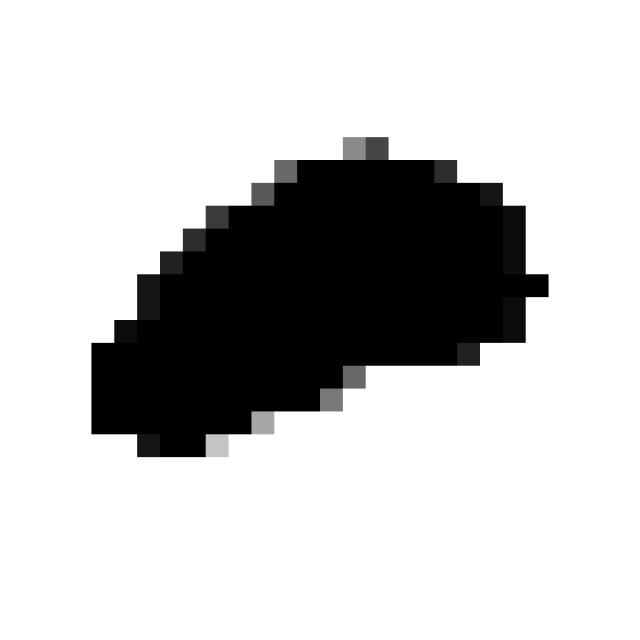0 -zero-: (71, 126, 564, 475)
